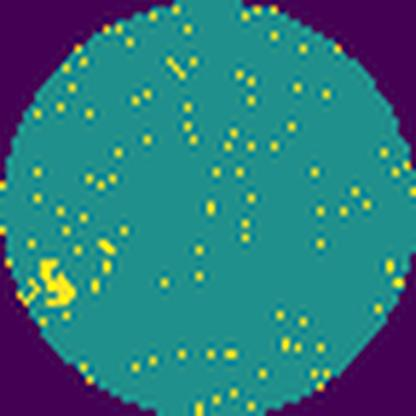Loc: (38, 258, 78, 310)
